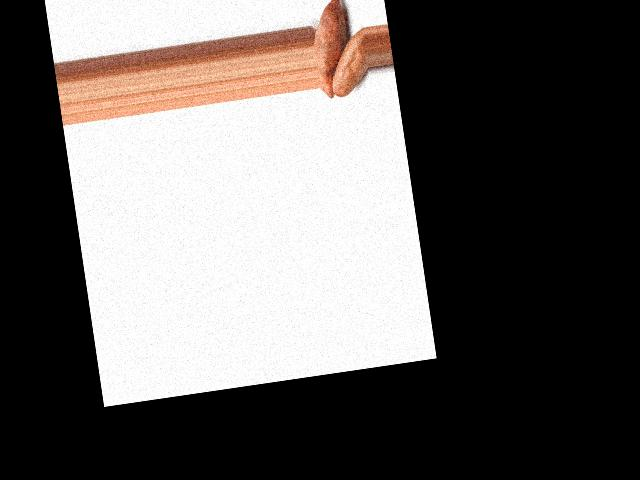sweet_potato: (324, 23, 372, 98)
